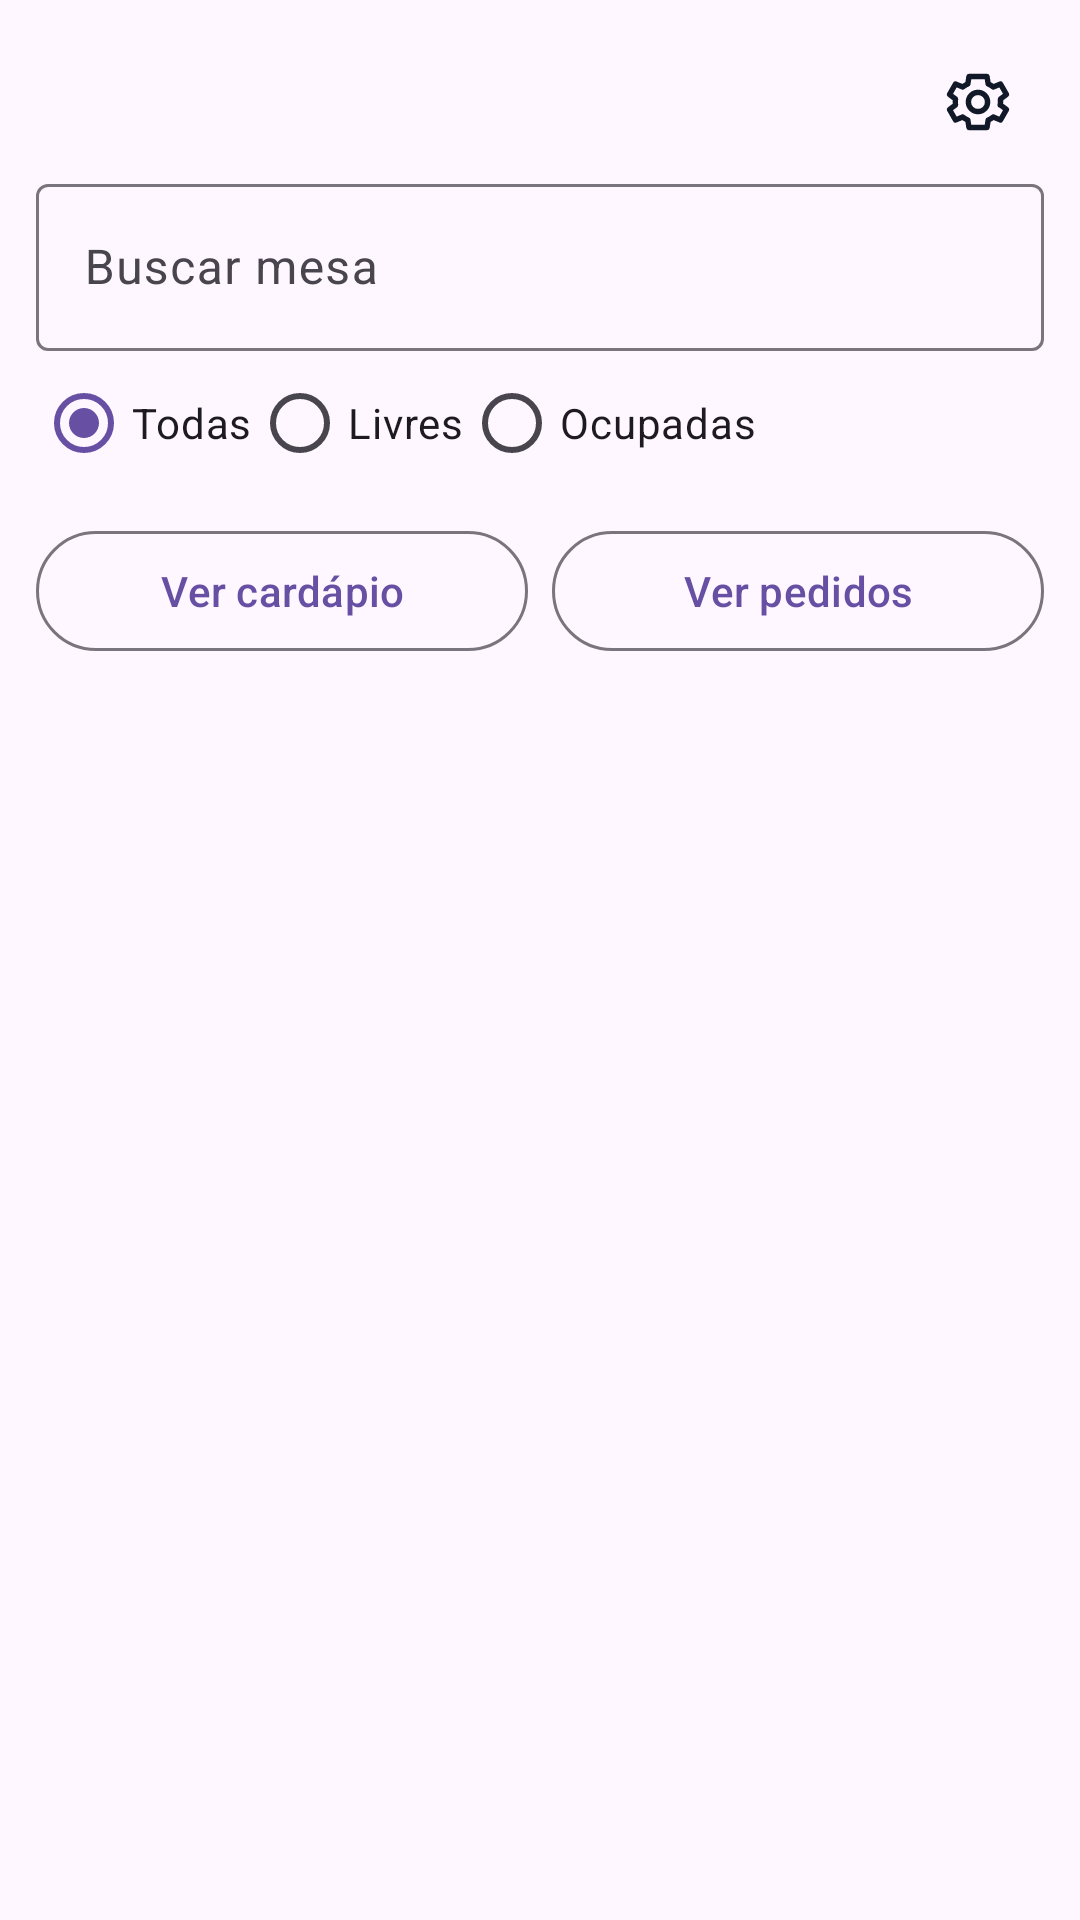

Screen size 1080 × 1920. Icon name, then its box in pixels as (x1, y1, x2, y2):
Configurações: (946, 73, 1010, 131)
